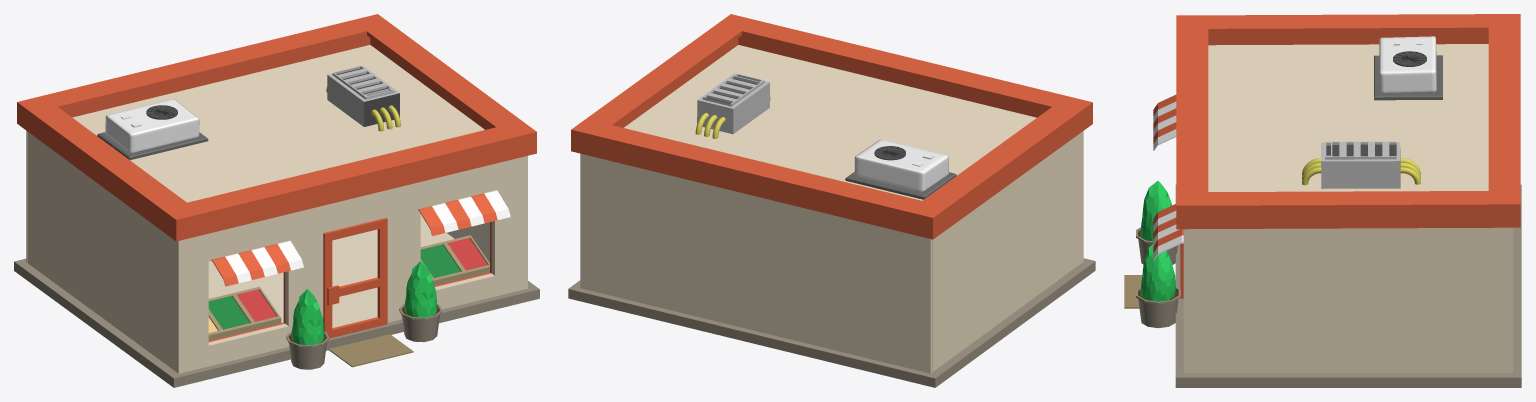
File: marketshop.fbx
3 views of the same model, side by side, from view 1: azimuth 30°, elevation 25°; view 2: azimuth 150°, elevation 25°; view 3: azimuth 270°, elevation 25° (orthographic). The views are drawn at different scales.
Parts seen in each view (by area): view 1: market; view 2: market; view 3: market.
Boxes of the visible parts, x1,y1,x2,y2 form: market: (14,14,539,387); market: (568,14,1095,387); market: (1124,14,1521,387).
Size of the model in its own units: 114 by 52.56 by 98.99.
